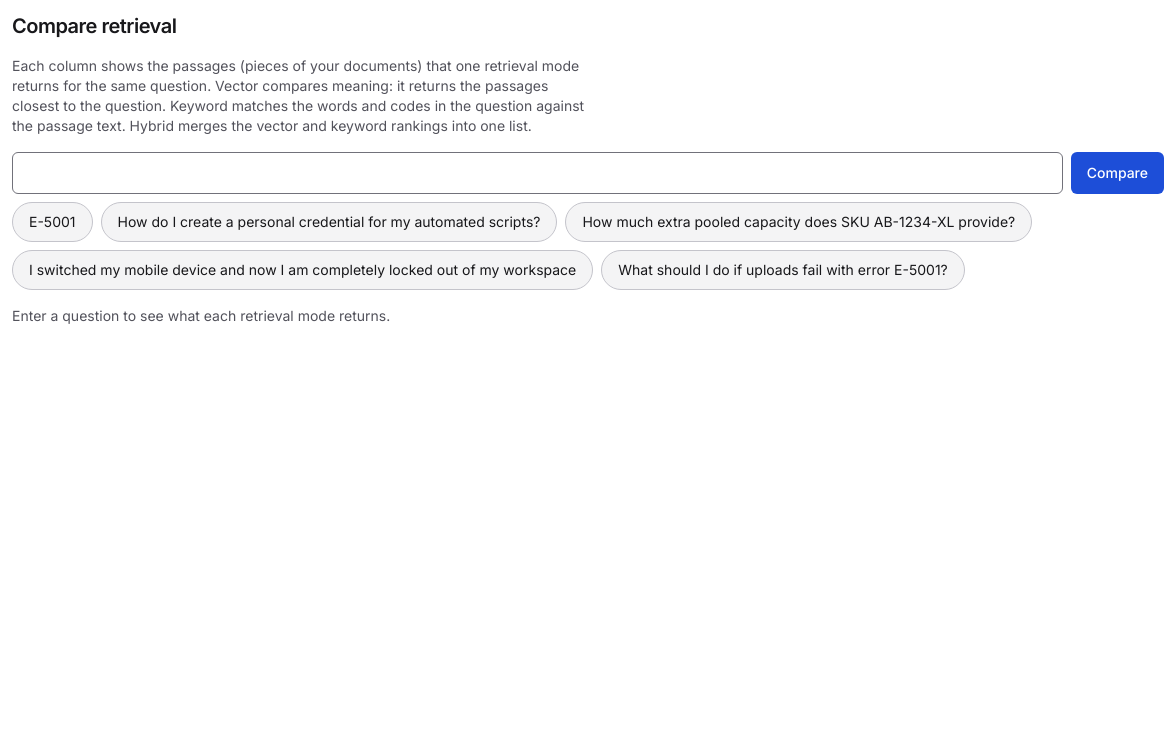
Test case: sends three parallel requests, one per mode, with the query
The image size is (1176, 732).
Type "refunds" into the search field named "Search query".
click(537, 173); type("refunds")  # box x1=12 y1=152 x2=1063 y2=194
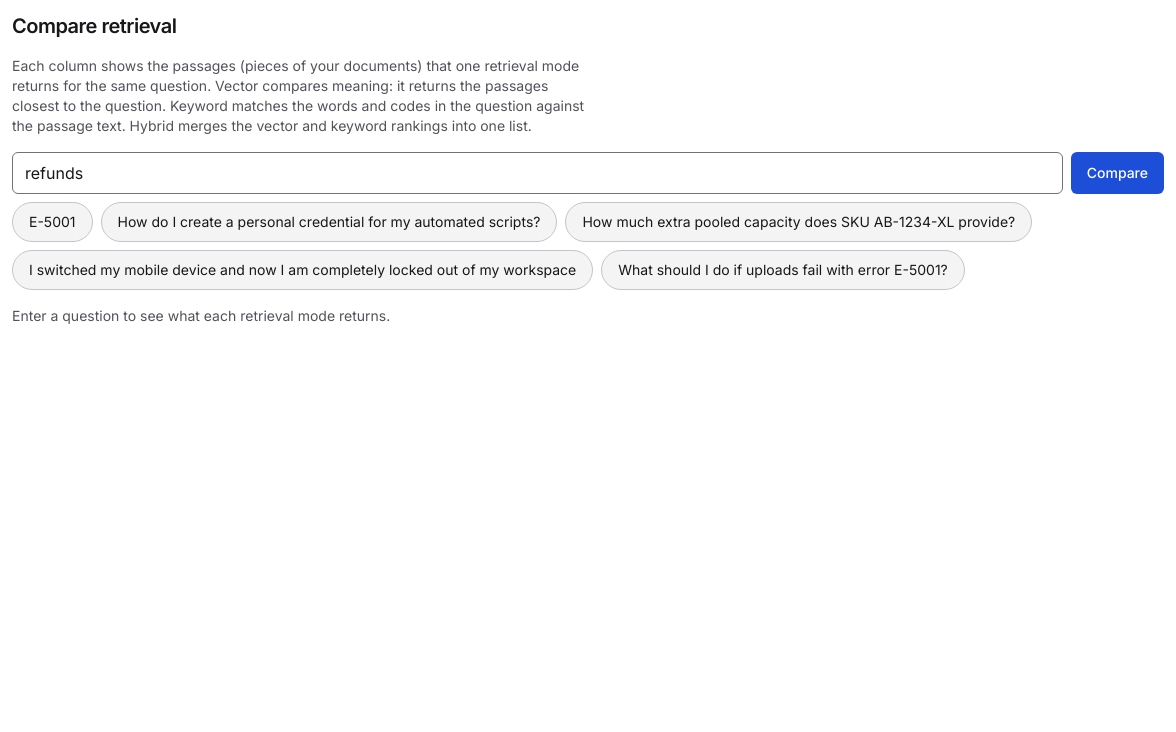
Click the button "Compare".
click(1117, 173)  # box x1=1071 y1=152 x2=1164 y2=194
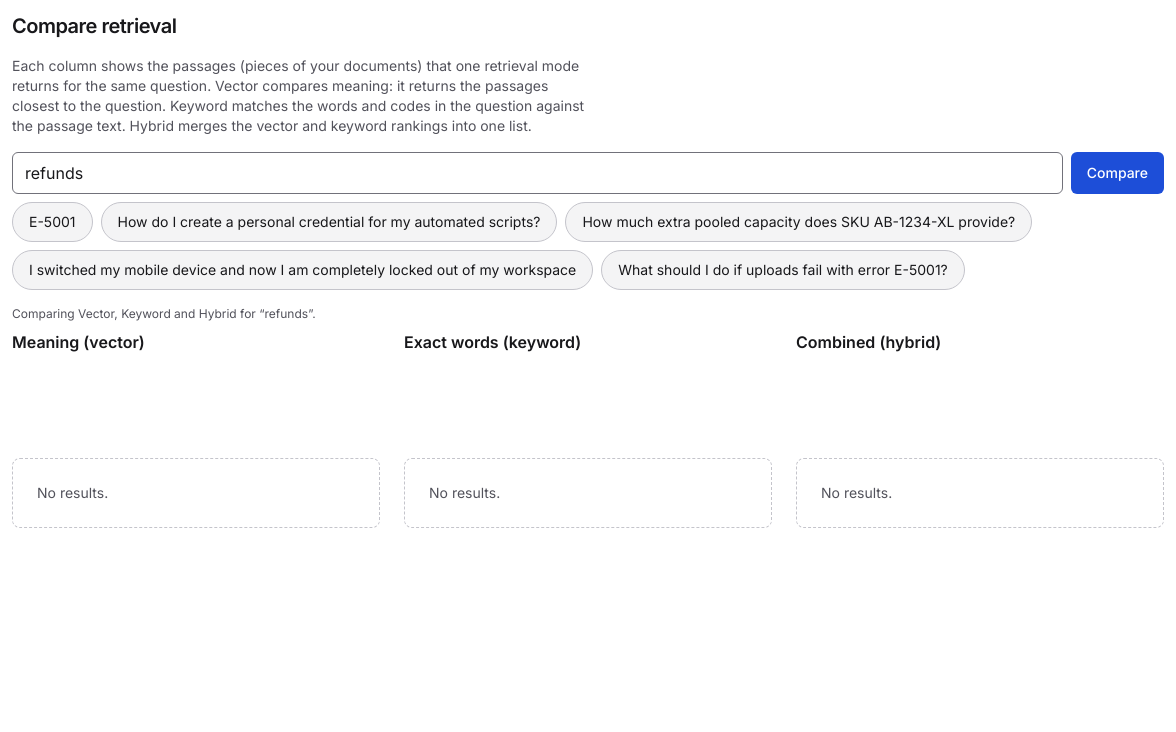
Check: the text "No results." is shown 3 times, box x1=12 y1=458 x2=380 y2=528; x1=404 y1=458 x2=772 y2=528; x1=796 y1=458 x2=1164 y2=528
